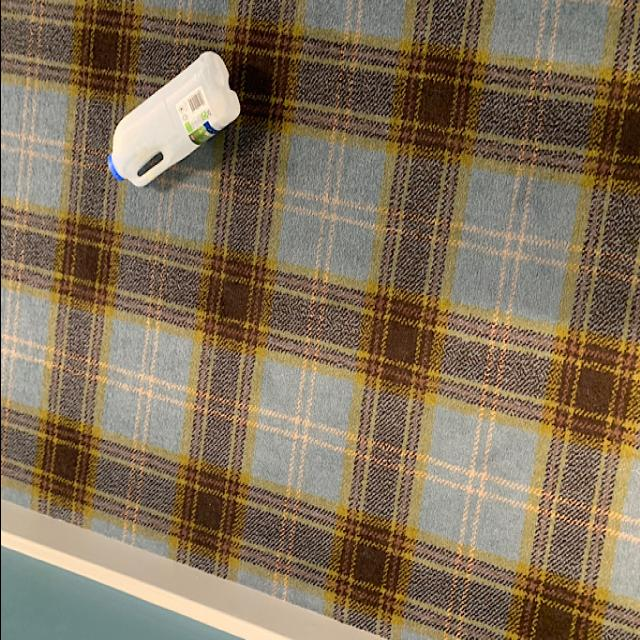HDPEM: (102, 46, 242, 185)
